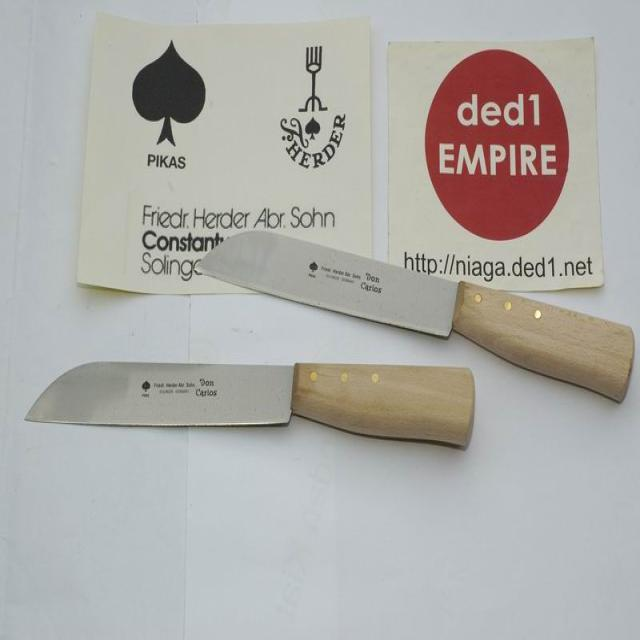Knife: (198, 229, 634, 401), (25, 362, 475, 450)
